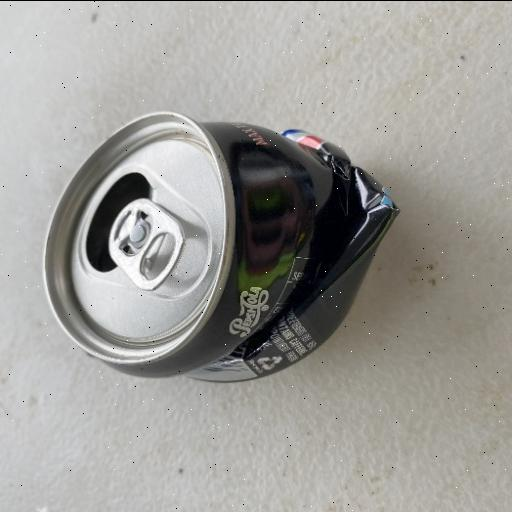Metal: (40, 108, 402, 384)
